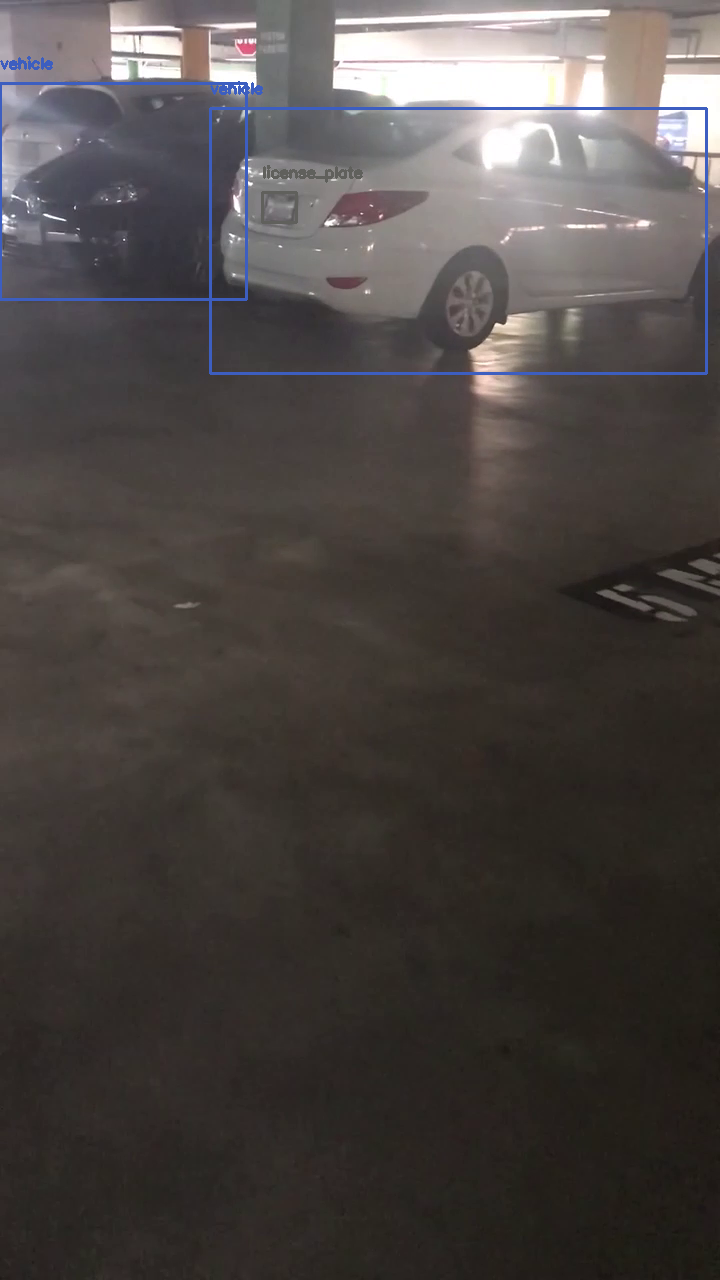license_plate: (262, 192, 296, 222)
vehicle: (210, 108, 706, 373), (0, 83, 246, 299)
